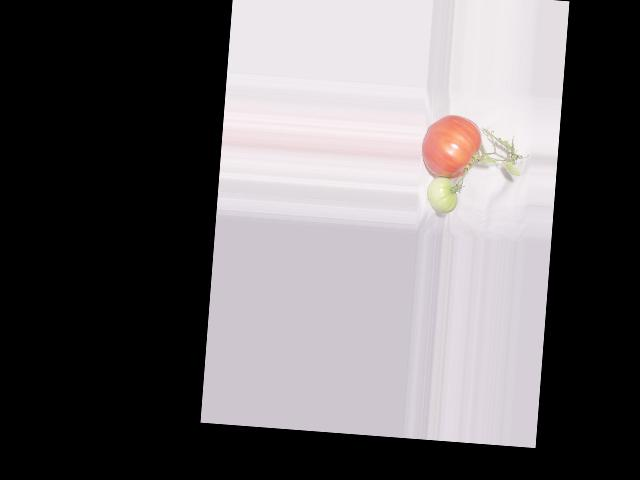tomato: (420, 113, 483, 181)
